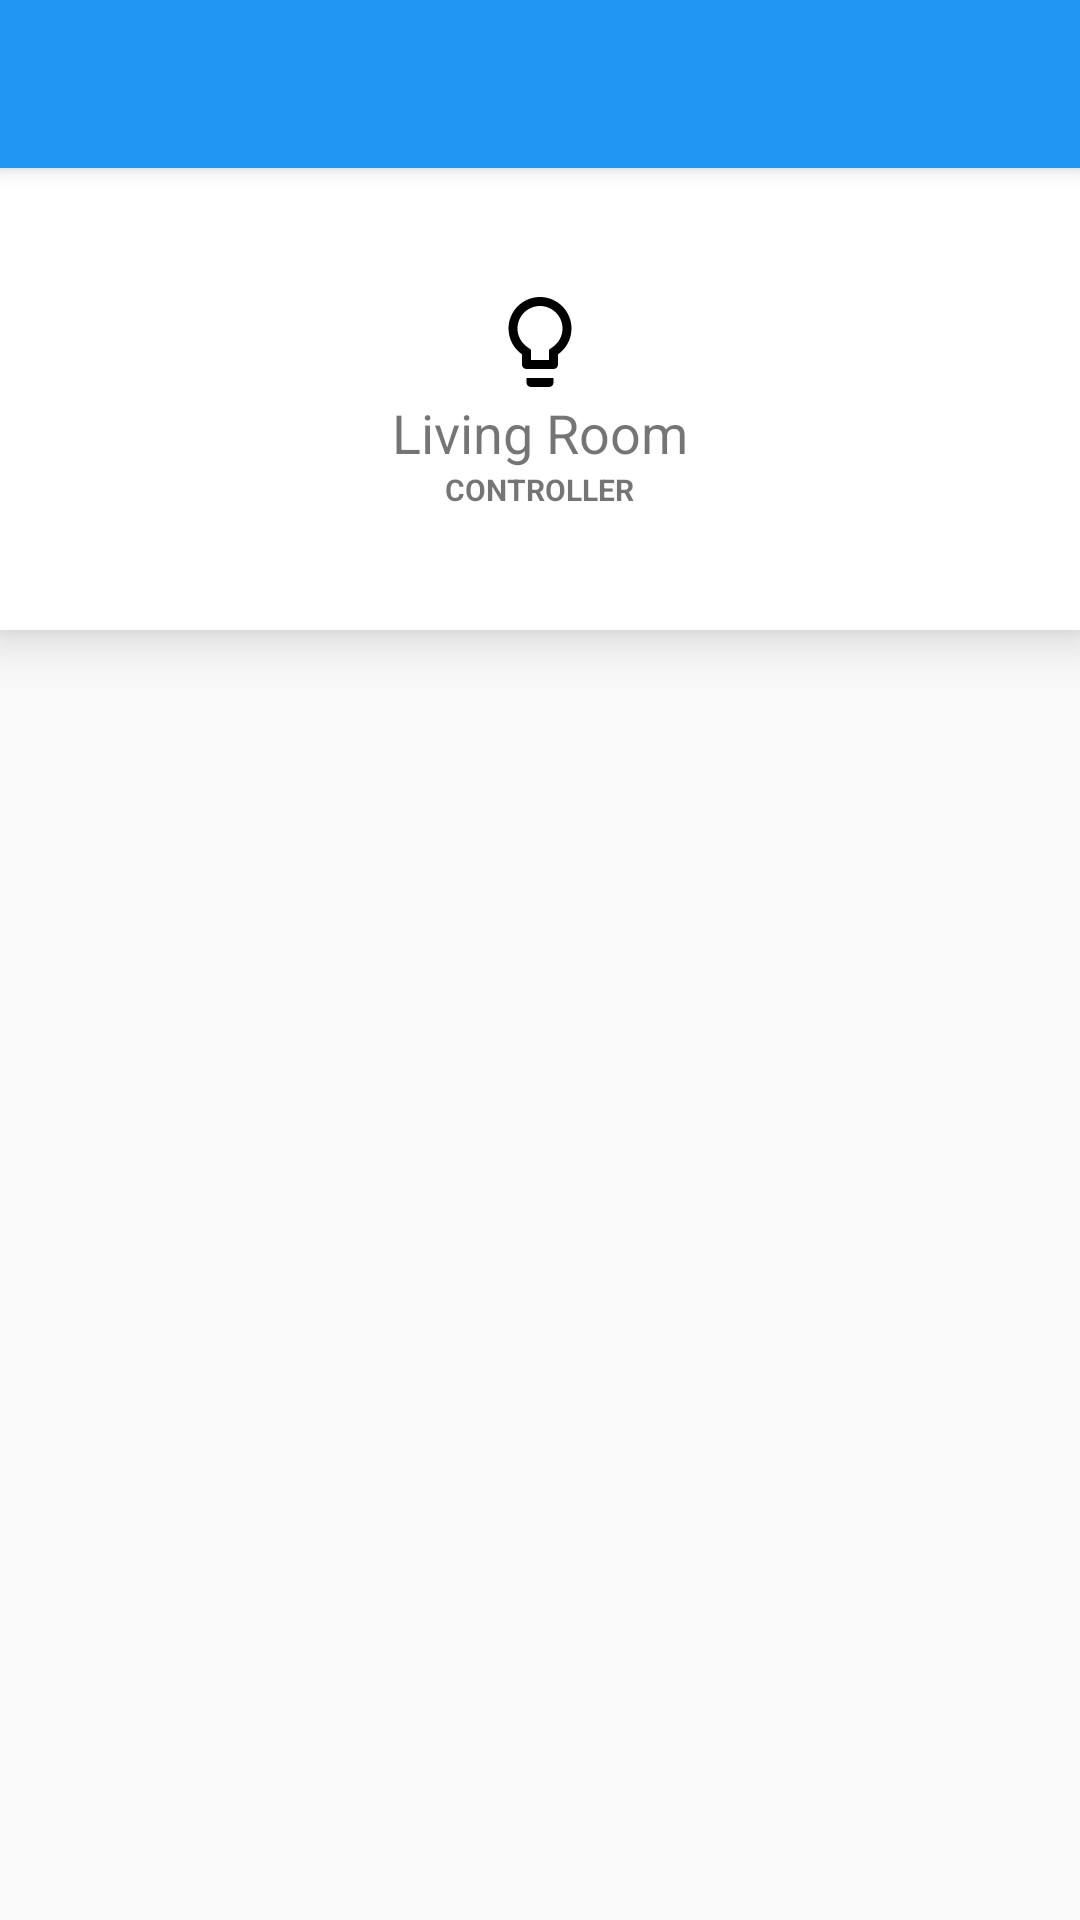

Icons on this 1080px×1920px Android screen, each with its box as (x1,y1,x2,y2):
lightbulb: (508,297,572,387)
